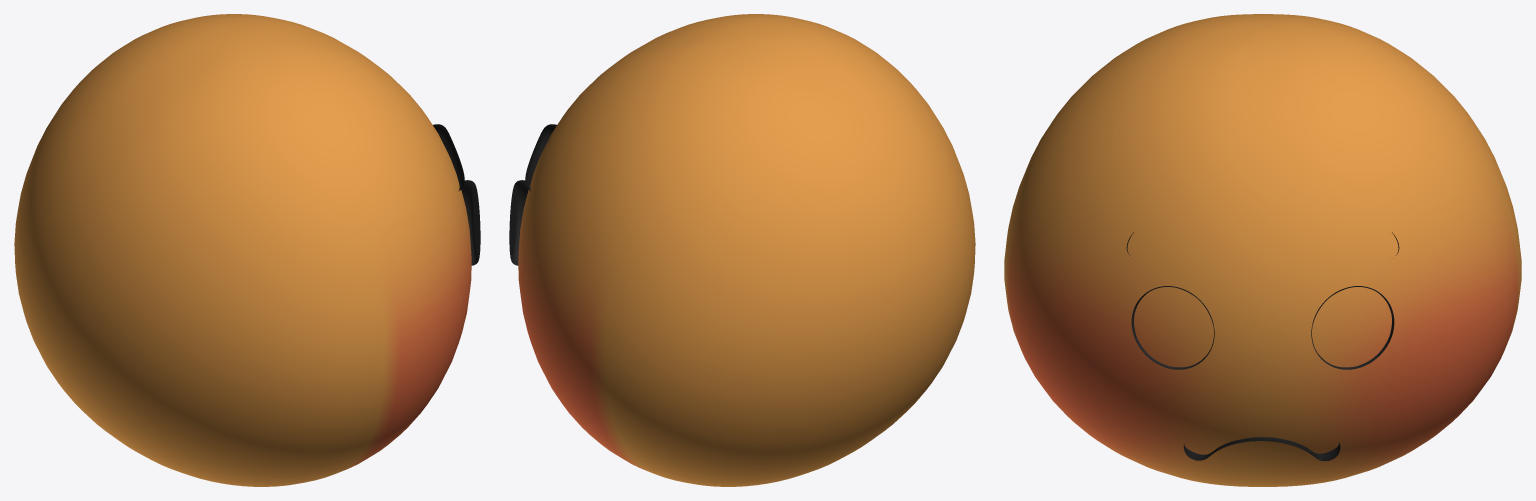
Rendered from sad.glb.
The picture shows the model from 3 angles, left to right: view 1: azimuth 30°, elevation 25°; view 2: azimuth 150°, elevation 25°; view 3: azimuth 270°, elevation 25°; orthographic projection. The views are drawn at different scales.
Parts seen in each view (by area): view 1: Sphere.003, Circle, Circle.002; view 2: Sphere.003, Circle, Circle.002; view 3: Sphere.003, Circle, Circle.003.
Part boxes in pixels (x1,y1,x2,y2): Sphere.003: [14, 14, 471, 486]; Circle: [461, 180, 480, 265]; Circle.002: [433, 124, 464, 191]; Sphere.003: [518, 14, 975, 486]; Circle: [509, 180, 528, 265]; Circle.002: [525, 124, 556, 191]; Sphere.003: [1004, 14, 1521, 486]; Circle: [1131, 286, 1394, 369]; Circle.003: [1183, 437, 1340, 460].
Bounding box in the file's own units: 2.78 × 2.81 × 3.04.
Materials: 4 (1 with a texture image).
